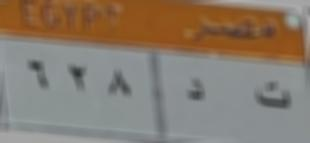2: (62, 61, 92, 100)
6: (24, 56, 54, 96)
8: (102, 68, 137, 103)
daal: (175, 77, 213, 110)
taa: (250, 75, 294, 118)
